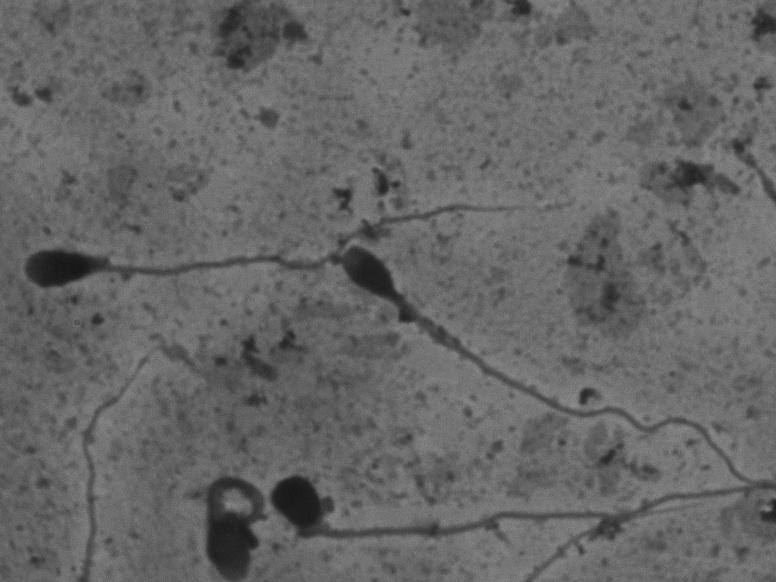Abnormal: (331, 239, 759, 468), (9, 172, 586, 299), (268, 465, 723, 555)
